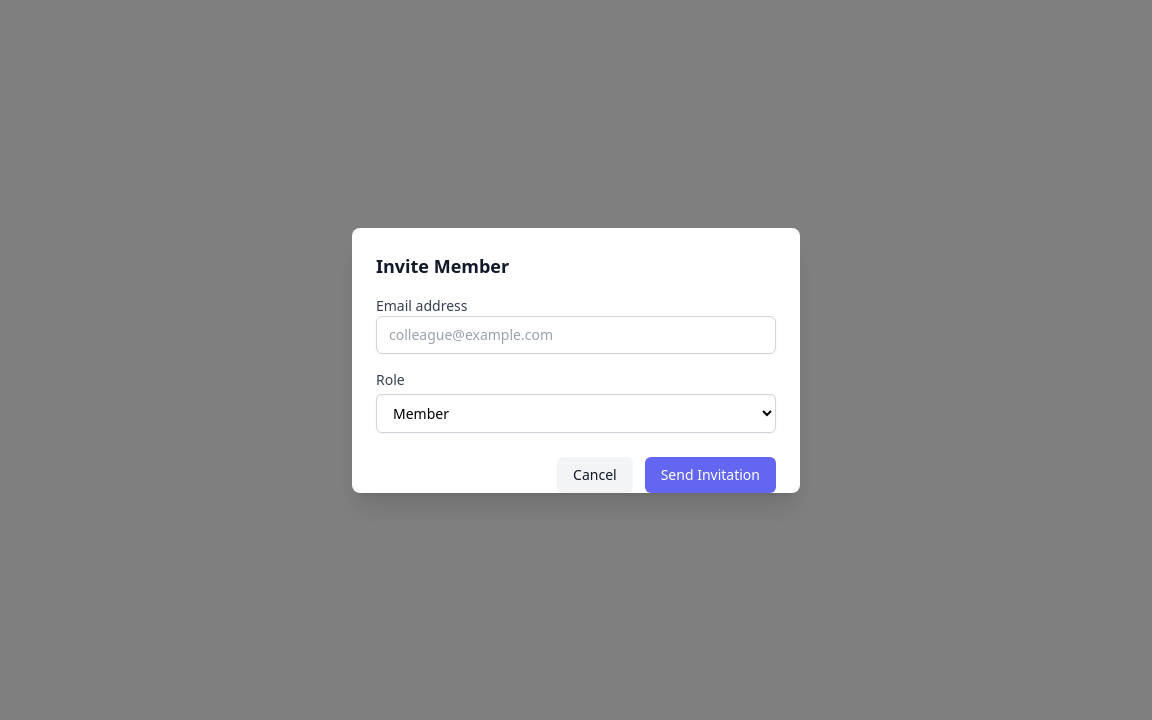
InviteMemberDialog › should show validation error for invalid email
The width and height of the screenshot is (1152, 720).
In the field labelled "Email address": (576, 334) x1=376 y1=316 x2=776 y2=354, type "bad@x"
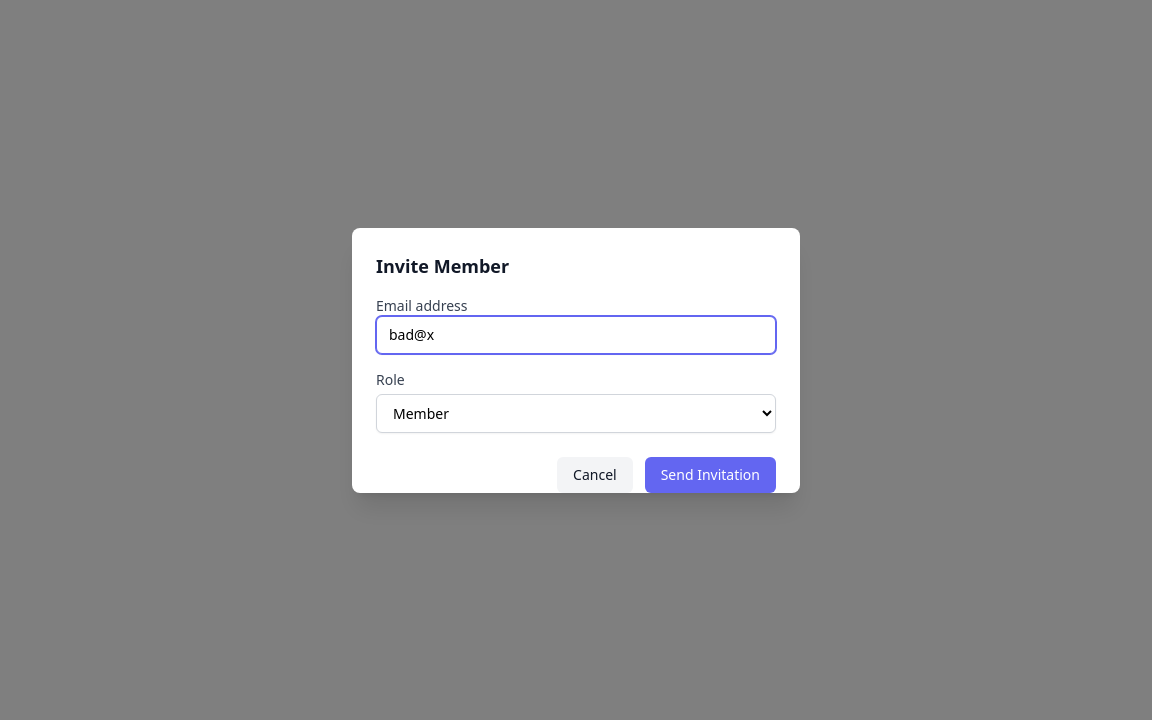
Click the button "Send Invitation": (710, 474) x1=645 y1=456 x2=776 y2=492
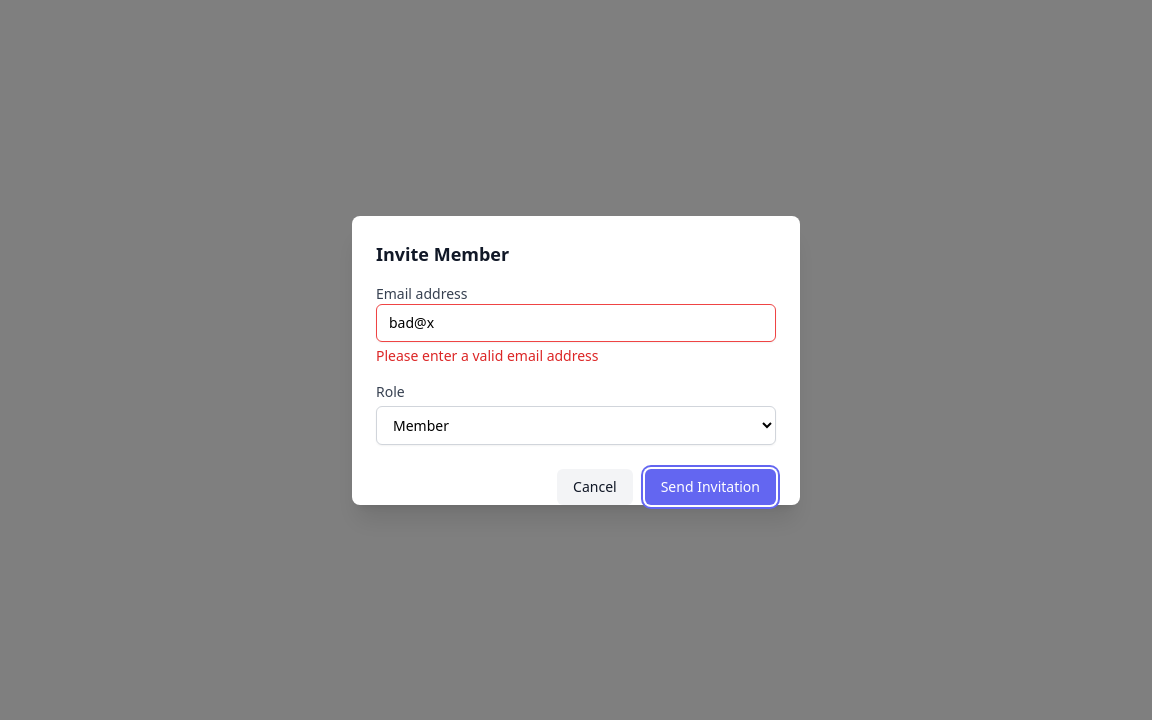
Result: the text "Please enter a valid email address" is shown at x1=376 y1=346 x2=598 y2=364
